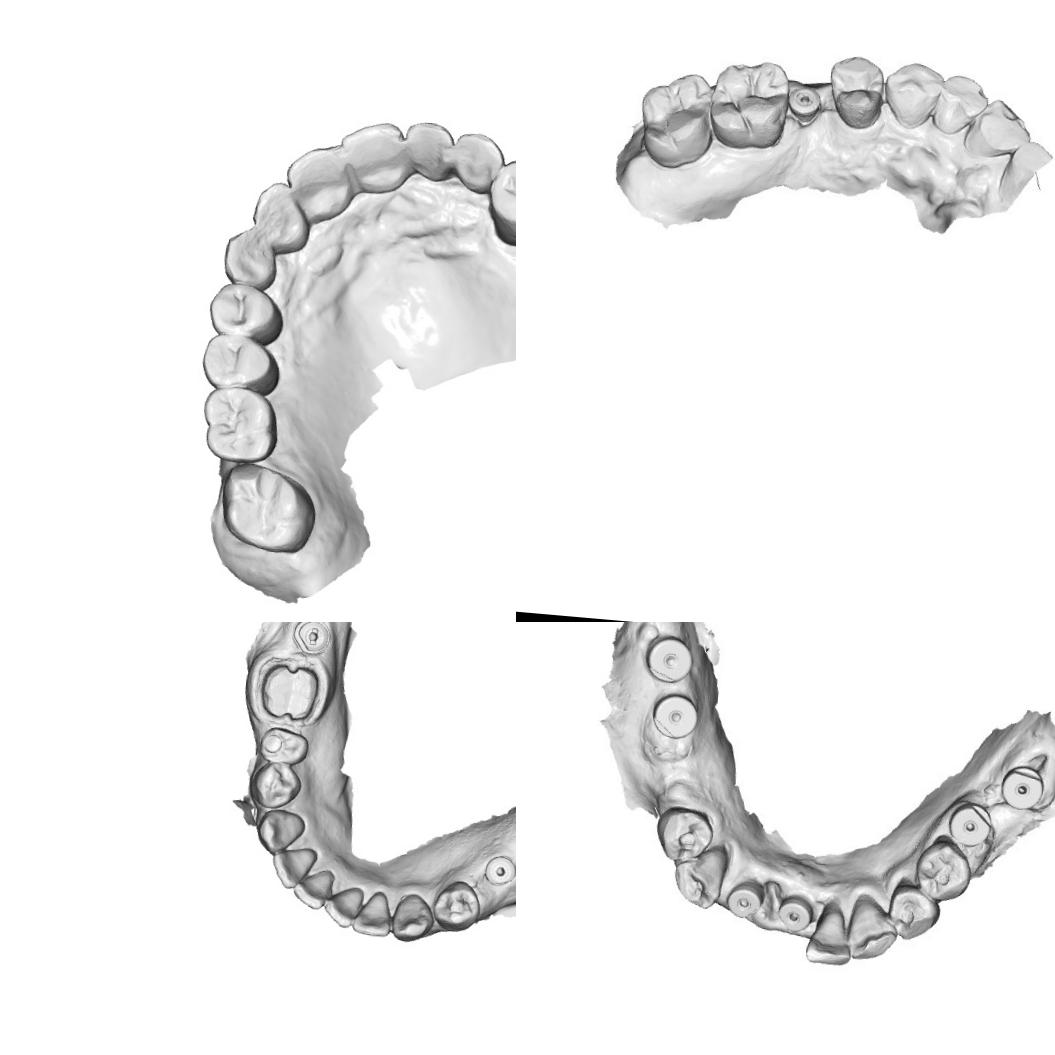canine: (877, 52, 944, 136), (445, 124, 508, 199), (218, 224, 282, 292), (669, 845, 728, 909), (846, 894, 898, 965), (253, 806, 307, 856), (389, 890, 436, 944)
crown: (253, 656, 324, 724)
implant: (647, 689, 704, 744), (639, 633, 695, 684), (945, 796, 996, 850), (776, 888, 819, 934), (725, 874, 768, 919), (1000, 765, 1046, 807), (482, 852, 516, 887)
implant_minus: (787, 84, 826, 124), (289, 622, 332, 657)
incisor: (333, 114, 410, 197), (280, 142, 356, 224), (960, 95, 1036, 168), (244, 179, 314, 255), (930, 68, 989, 138), (804, 894, 857, 970), (400, 118, 457, 185), (268, 844, 318, 892), (350, 888, 394, 938), (290, 864, 336, 910), (322, 882, 364, 929)
molar: (216, 458, 321, 556), (706, 48, 790, 156), (634, 68, 721, 172), (196, 385, 280, 466)
premolar: (197, 330, 284, 395), (824, 51, 889, 132), (204, 280, 286, 342), (914, 838, 972, 900), (886, 878, 938, 943), (430, 876, 483, 934), (482, 156, 516, 244), (247, 758, 304, 810), (655, 808, 711, 860), (257, 723, 310, 766)
